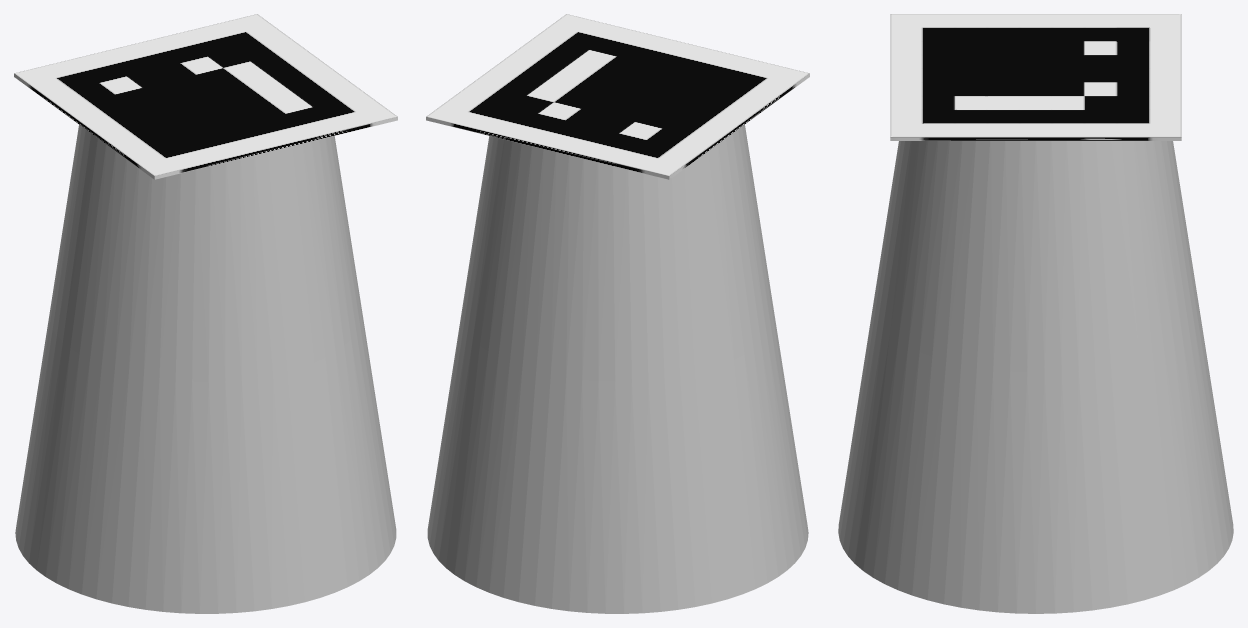
Rendered from cup_aruco_2.dae.
The picture shows the model from 3 angles, left to right: view 1: azimuth 30°, elevation 25°; view 2: azimuth 150°, elevation 25°; view 3: azimuth 270°, elevation 25°; orthographic projection. The views are drawn at different scales.
Visible parts, largest first — view 1: Cup_0, Cube; view 2: Cup_0, Cube; view 3: Cup_0, Cube.
Boxes of the visible parts, bbox=[...] form: Cup_0: bbox=[15, 125, 396, 613]; Cube: bbox=[14, 14, 397, 179]; Cup_0: bbox=[427, 125, 808, 613]; Cube: bbox=[426, 14, 809, 179]; Cup_0: bbox=[838, 141, 1233, 613]; Cube: bbox=[890, 14, 1181, 140].
Bounding box in the file's own units: 0.0949 × 0.095 × 0.1205.
Materials: 1 (1 with a texture image).
